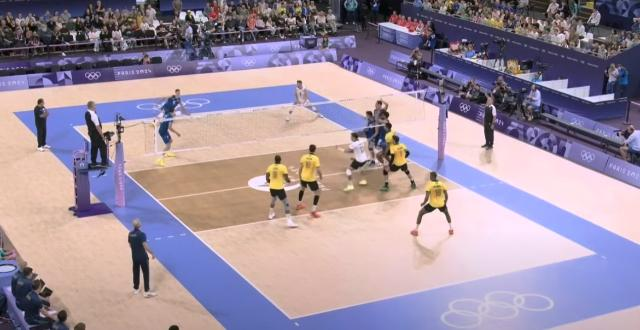Levantador: (381, 134, 415, 190), (153, 108, 179, 166)
Libero: (346, 132, 364, 192), (292, 80, 316, 118)
